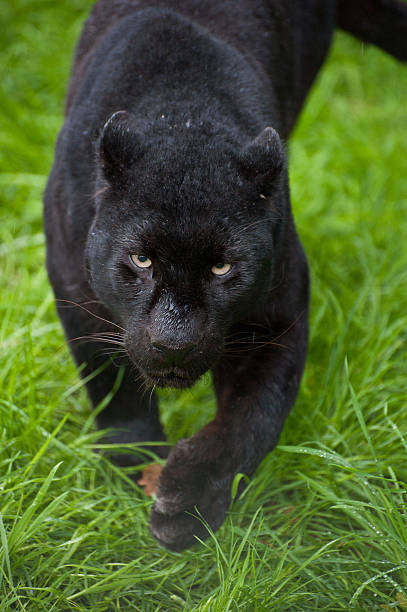panther: (71, 102, 293, 400)
